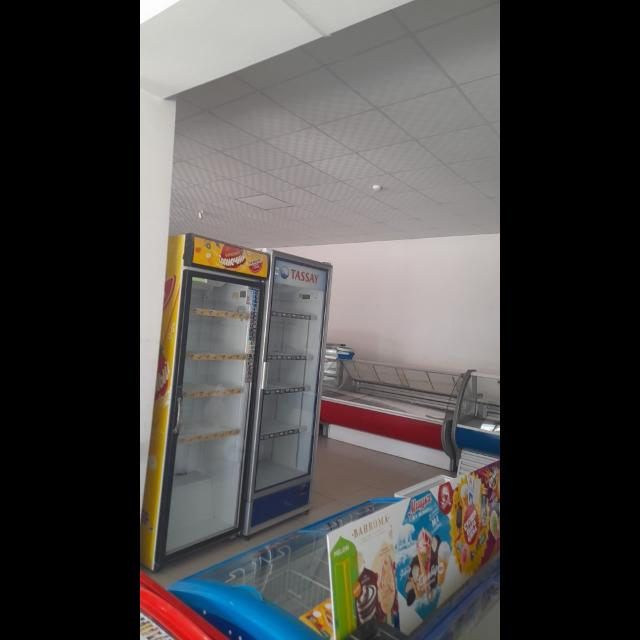Cooling-Display: (242, 247, 332, 537)
